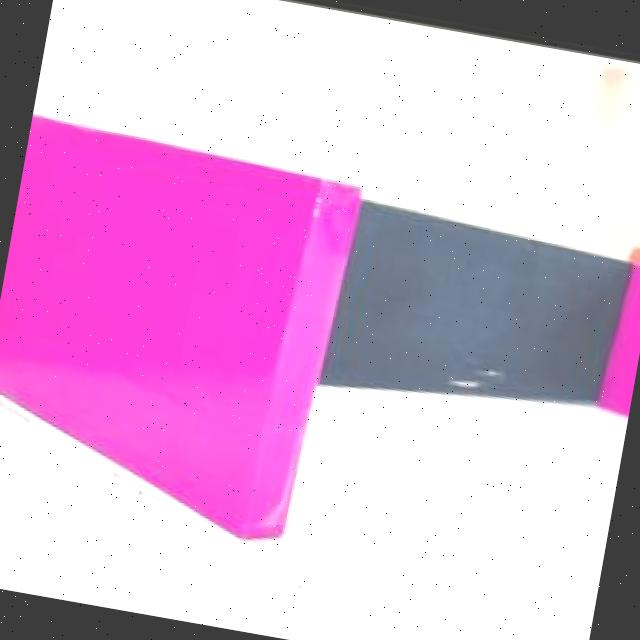xparking: (0, 127, 340, 482), (613, 264, 640, 417)
